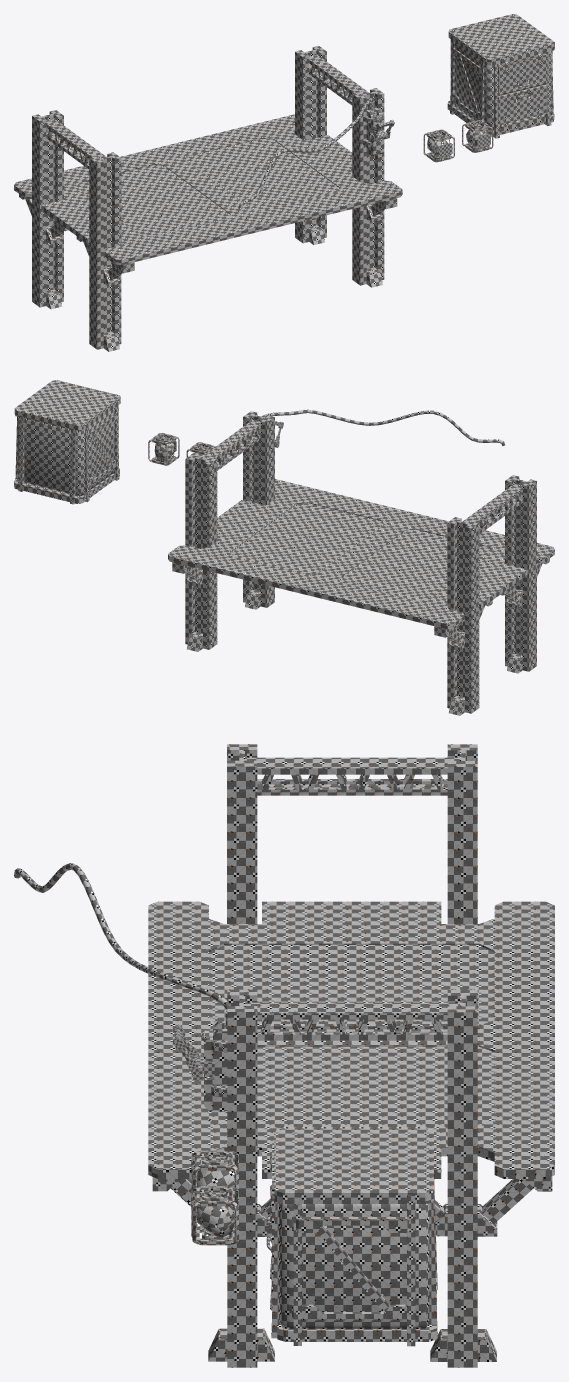
File: Big_storage_Containers_Gameready.FBX
3 renders of one model, top to bottom at view 1: azimuth 30°, elevation 25°; view 2: azimuth 150°, elevation 25°; view 3: azimuth 270°, elevation 25°, orthographic. The views are drawn at different scales.
Parts seen in each view (by area): view 1: xg001; view 2: xg001; view 3: xg001, Cylinder007.
Part boxes in pixels (box(x1,y1,x2,y2)): xg001: box(14, 14, 554, 351); xg001: box(14, 380, 554, 715); xg001: box(14, 744, 554, 1367); Cylinder007: box(196, 1205, 234, 1236).
Size of the model in its own units: 821 by 319 by 424.
1 material, 1 textured.
